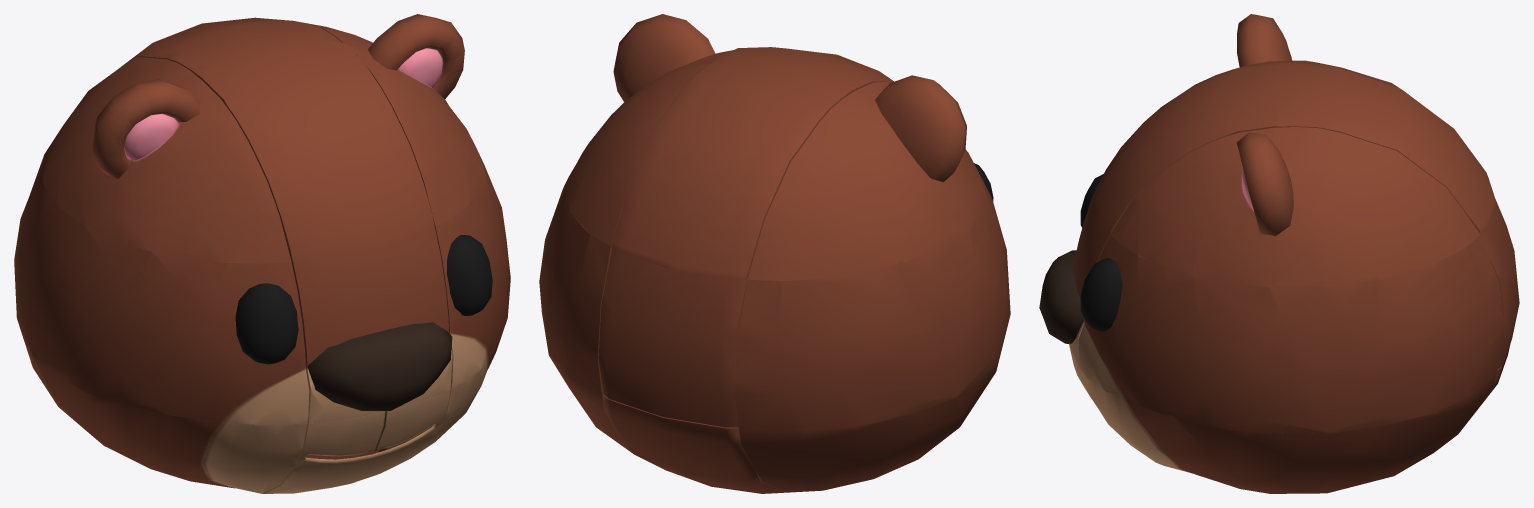
File: Bear_Cut.fbx
3 renders of one model, left to right at view 1: azimuth 30°, elevation 25°; view 2: azimuth 150°, elevation 25°; view 3: azimuth 270°, elevation 25°, orthographic. The views are drawn at different scales.
Parts seen in each view (by area): view 1: L, T, LT, C, RT, LB, R, B, RB; view 2: L, T, LT, C, RT, LB, R, B, RB; view 3: R, RT, T, RB, C, LT.
Boxes of the visible parts, x1,y1,x2,y2 form: L: [14, 151, 309, 425]; T: [135, 17, 434, 261]; LT: [41, 56, 291, 263]; C: [291, 227, 452, 423]; RT: [311, 14, 484, 226]; LB: [23, 337, 307, 493]; R: [435, 156, 510, 388]; B: [263, 389, 450, 493]; RB: [423, 335, 501, 449]; L: [734, 163, 1010, 431]; T: [611, 47, 893, 279]; LT: [747, 75, 985, 281]; C: [598, 247, 747, 427]; RT: [565, 14, 732, 246]; LB: [739, 358, 999, 492]; R: [539, 181, 612, 395]; B: [603, 394, 785, 493]; RB: [547, 346, 625, 447]; R: [1078, 234, 1505, 433]; RT: [1111, 127, 1479, 287]; T: [1094, 62, 1496, 233]; RB: [1082, 372, 1496, 493]; C: [1039, 181, 1519, 371]; LT: [1156, 14, 1396, 111].
Bounding box in the file's own units: 42.37 × 39.43 × 44.42.
1 material, 1 textured.
